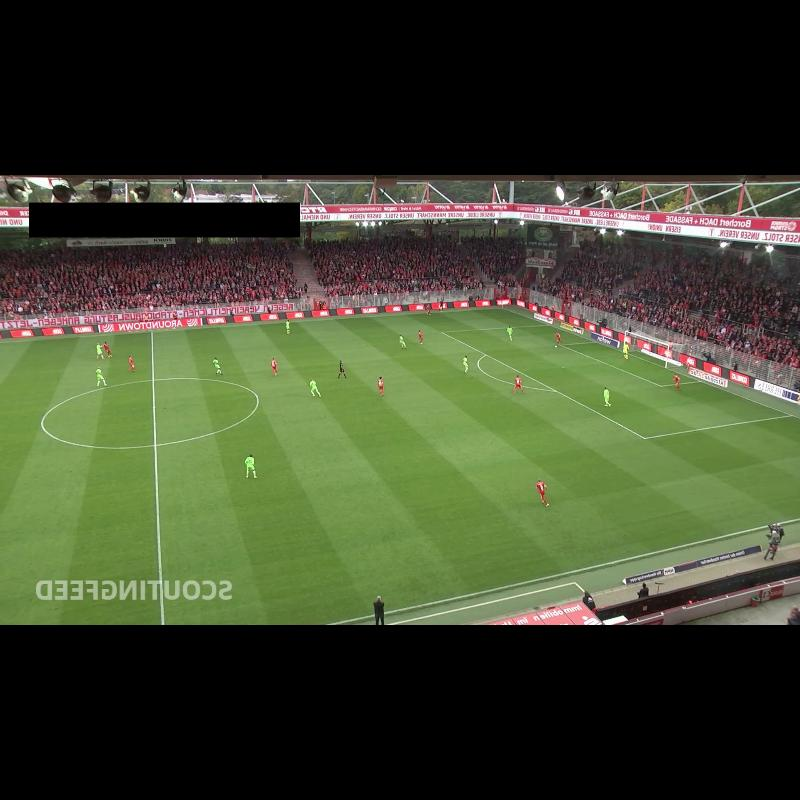cross_recipient_zone: (442, 325, 792, 438)
crossing_player_zone: (526, 415, 800, 553), (335, 308, 549, 337)
pitch: (0, 308, 800, 625)
